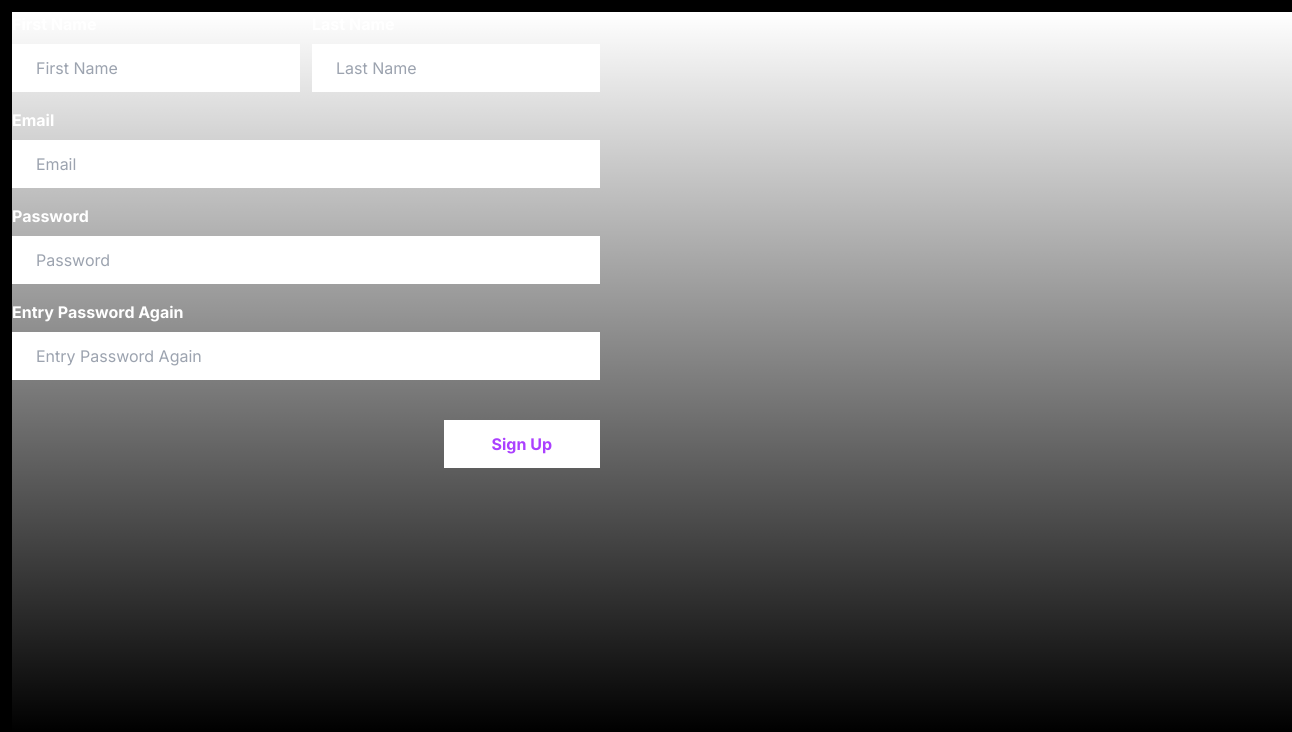
Test case: SignUp component › displays validation errors when inputs are invalid
This screenshot has width=1292, height=732.
Click the button "Sign Up".
click(522, 444)  # box [444,420,600,468]
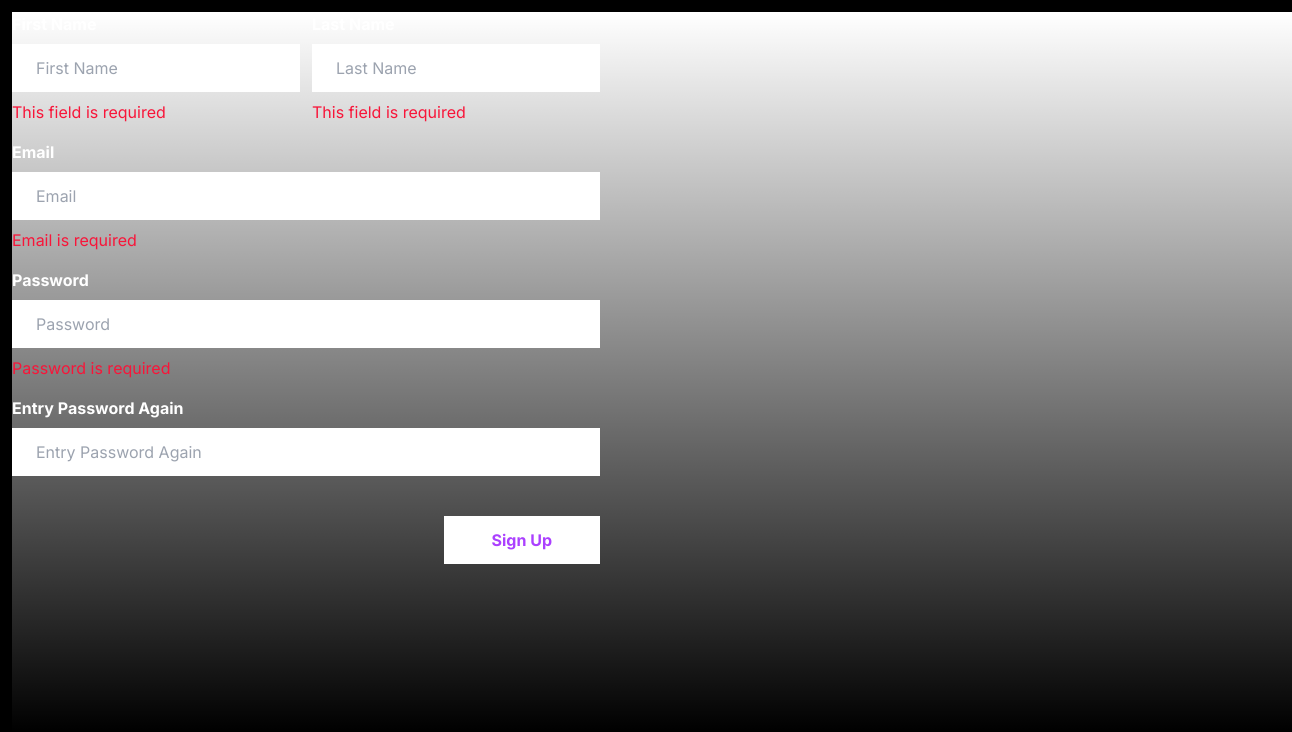
Check: the text "This field is required" is shown 2 times, box [12,102,166,122]; [312,102,466,122]
